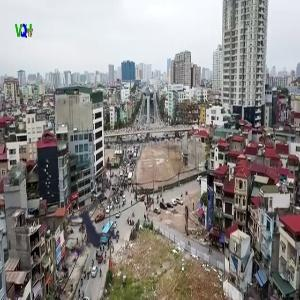drone: (58, 199, 134, 275)
